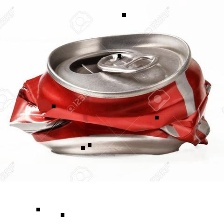can: (4, 27, 217, 163)
